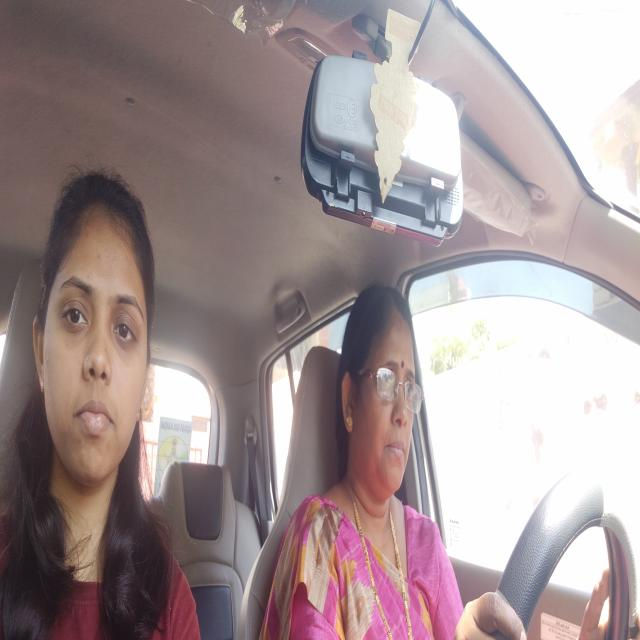person: (31, 184, 160, 485), (347, 294, 420, 489)
